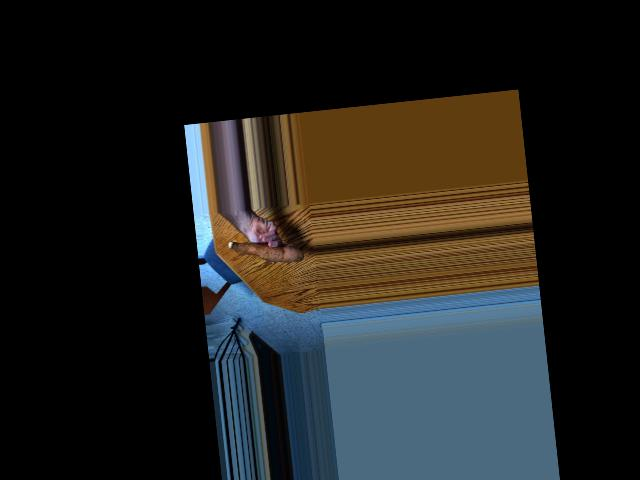sweet_potato: (228, 230, 302, 272)
